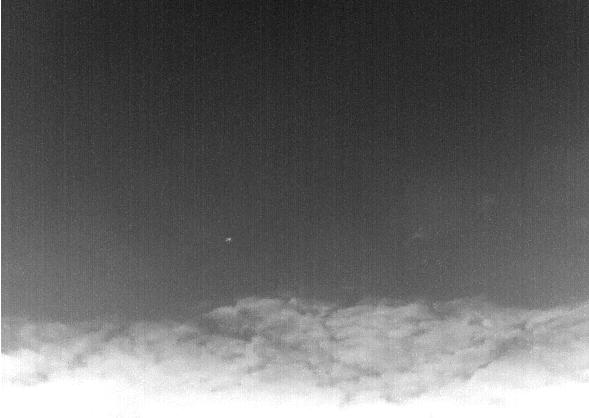dim target: (224, 235, 233, 243)
